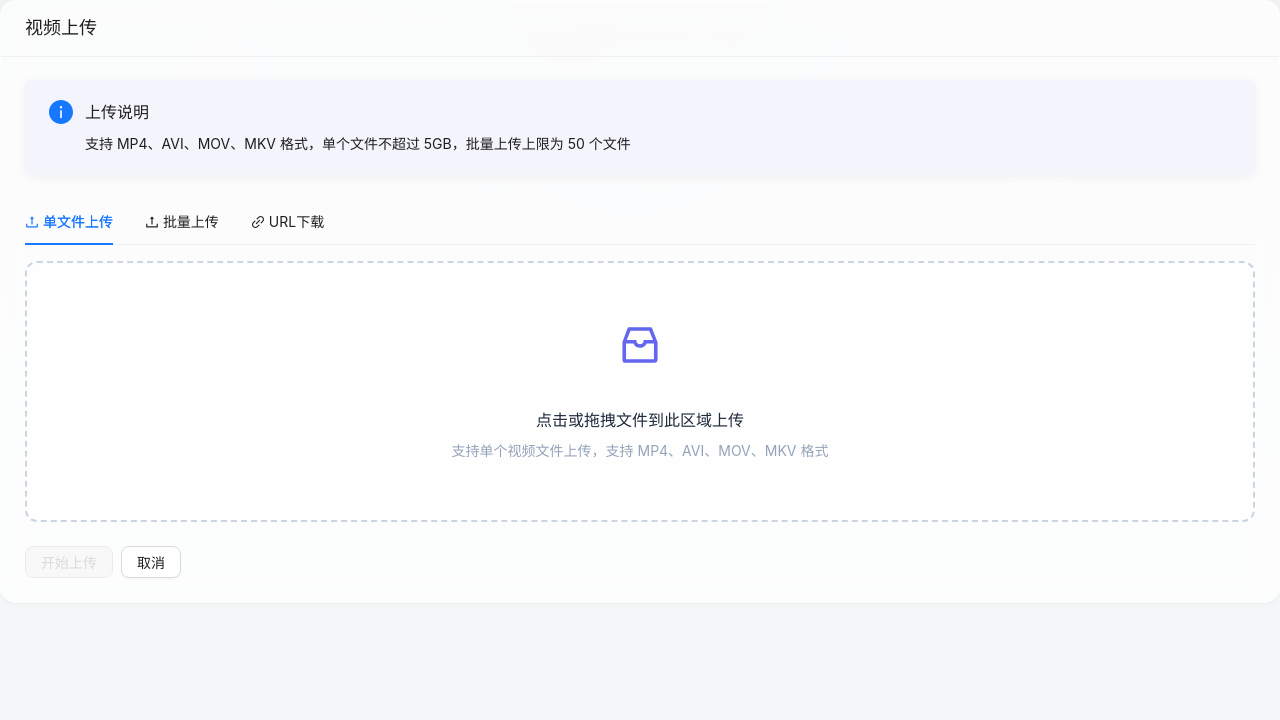
文件上传交互测试 - File Upload Interactions › 应该验证URL格式并显示错误信息
Note: 切换到URL下载标签页
Click the tab "URL下载" at (288, 222), box [251,211,324,233]
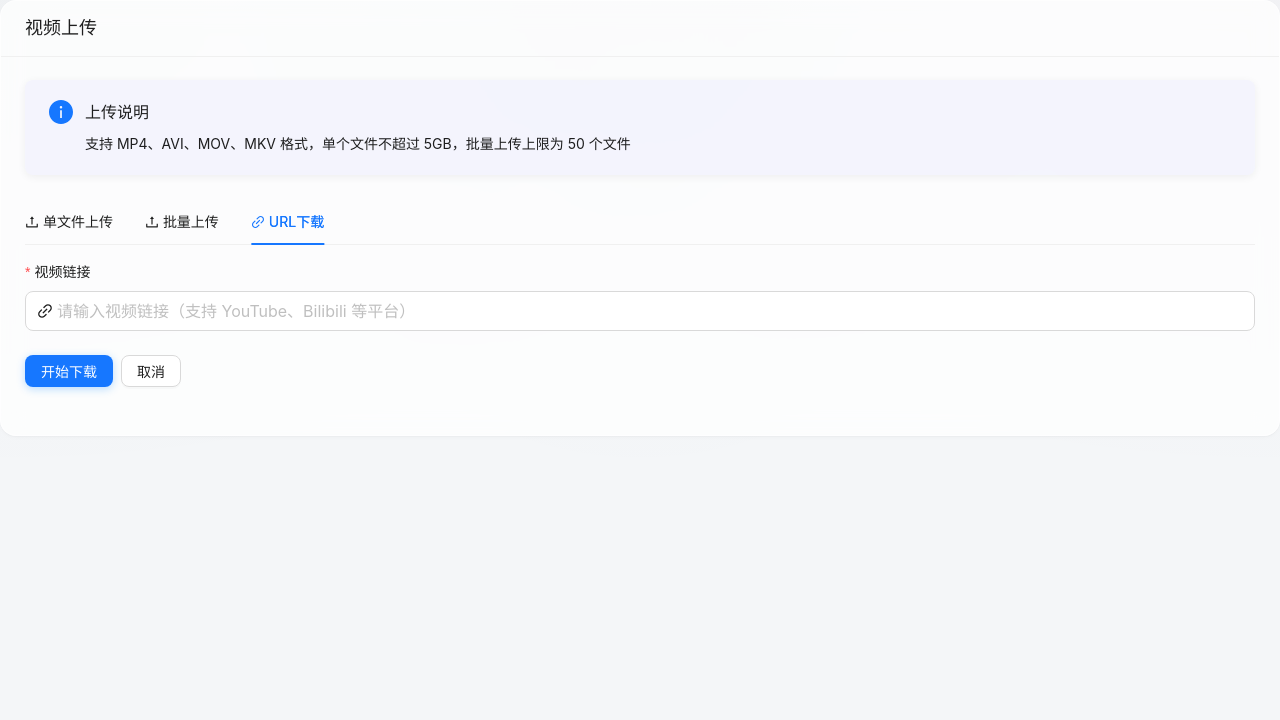
Note:  输入无效URL
Type "invalid-url" into the field with placeholder "请输入视频链接（支持 YouTube、Bilibili 等平台）" at (650, 311), box [57,299,1243,323]
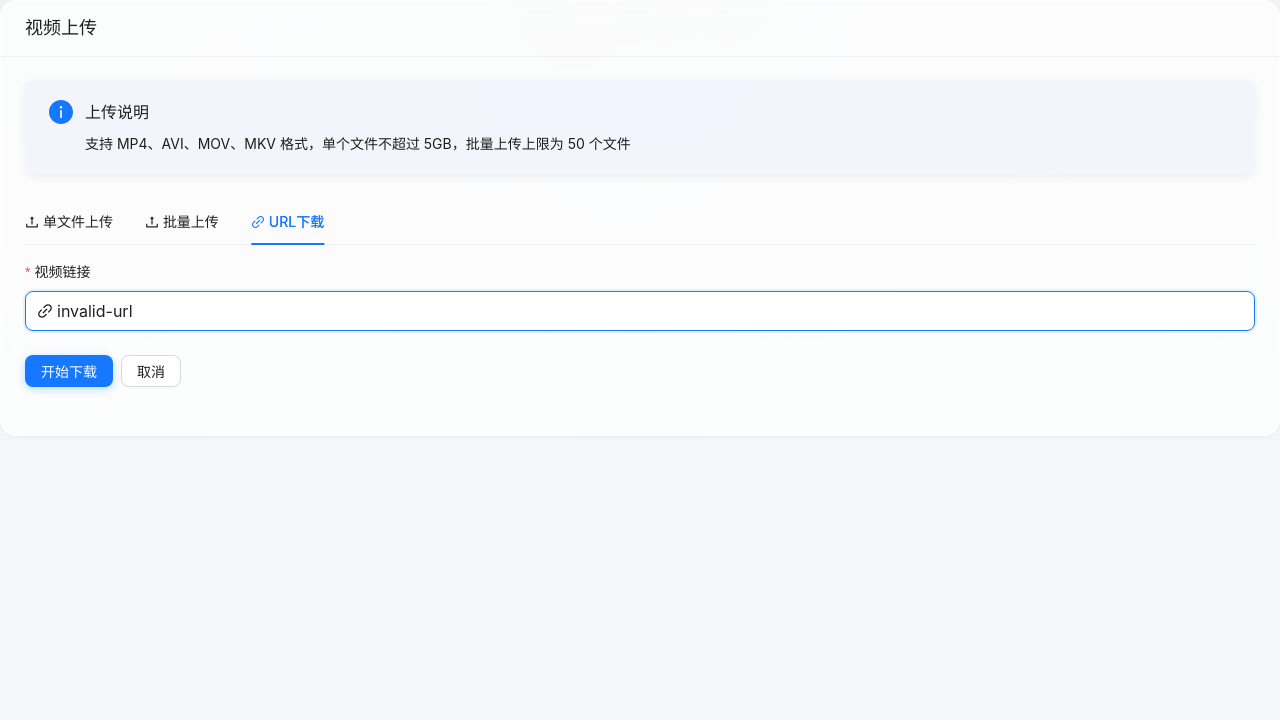
Click the button "开始下载" at (69, 371), box [25,355,113,387]
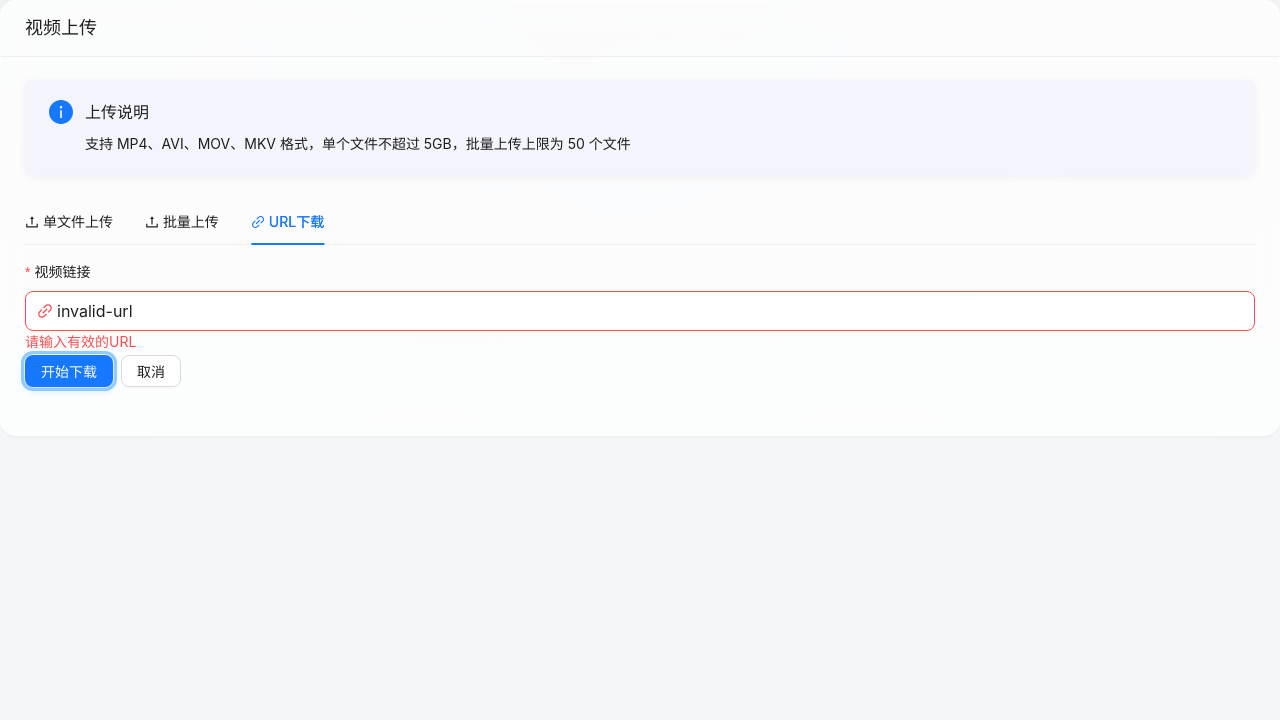
Expected: the text "请输入有效的URL" is shown, [25,333,136,350]
